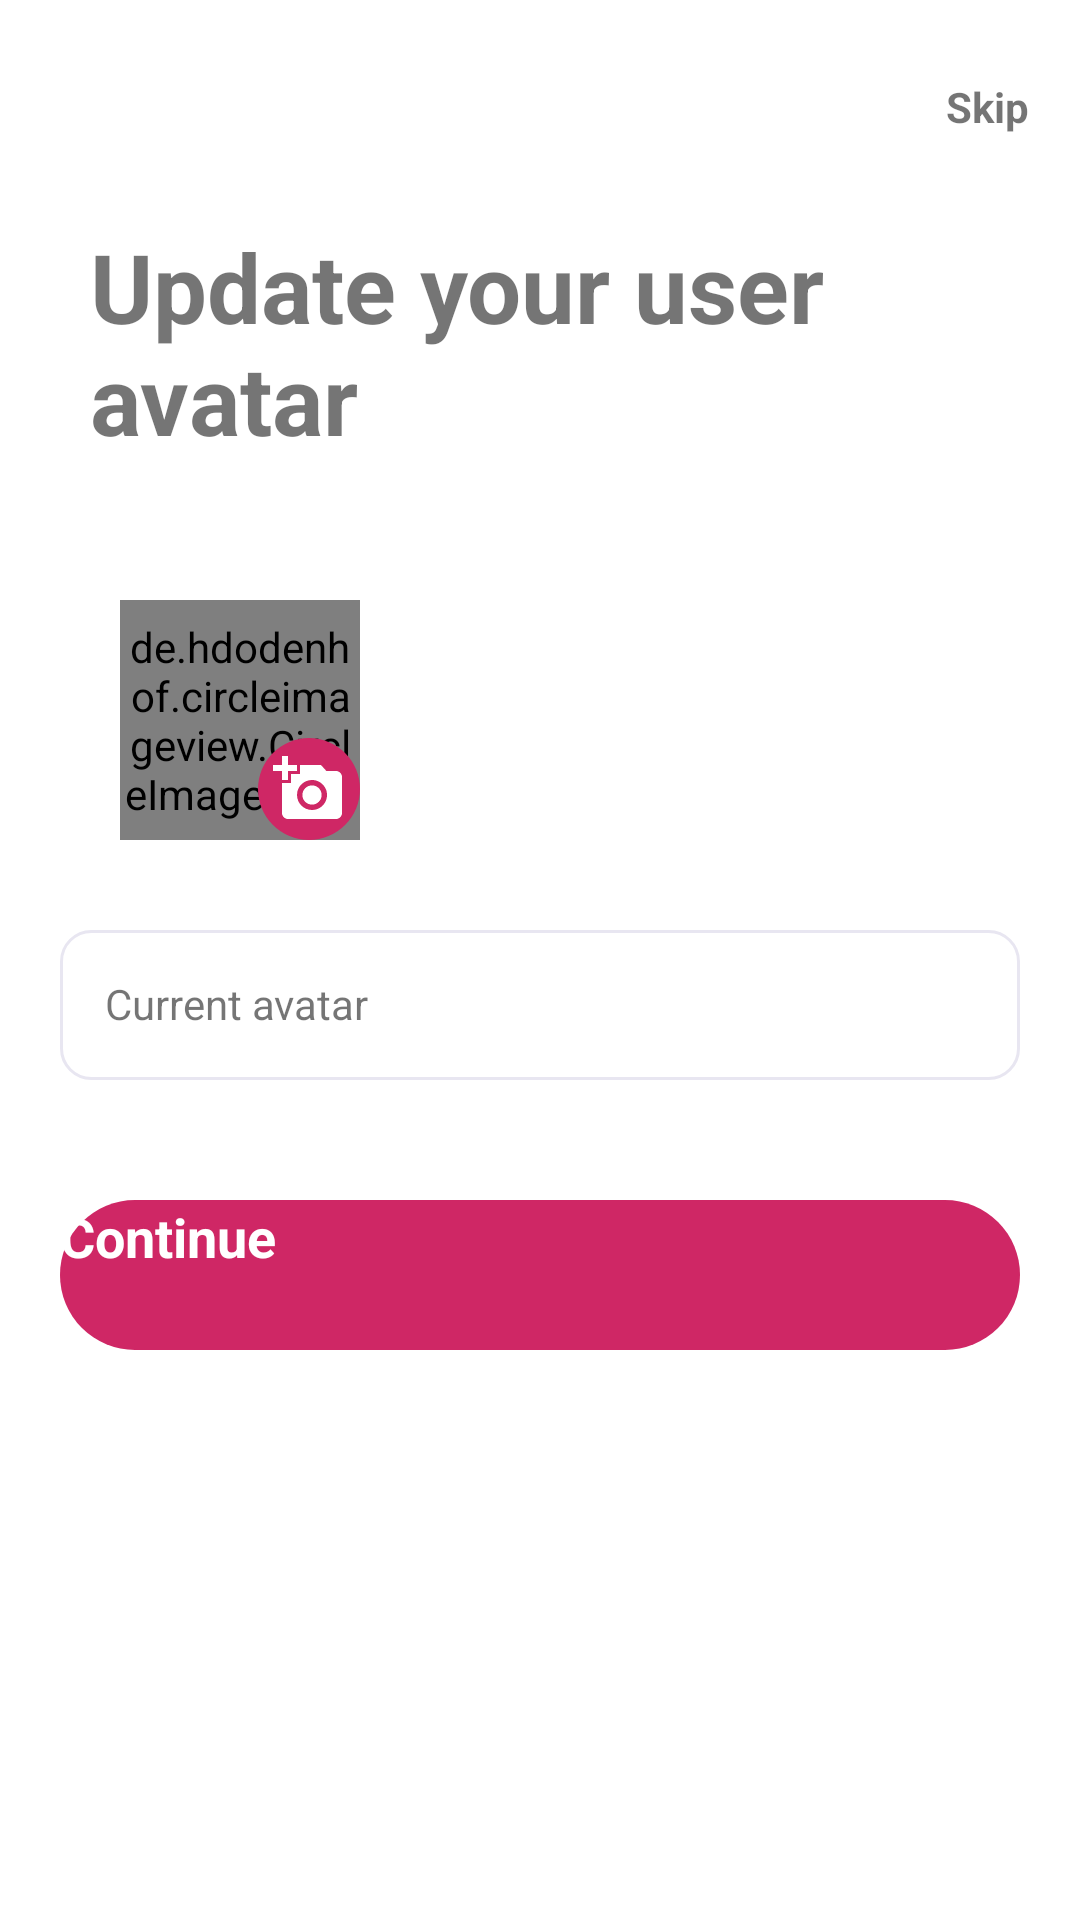

Where to tap for icons on this 1080w x 1920h app screen, as (x=x, y=y):
camera plus: (x=309, y=789)
